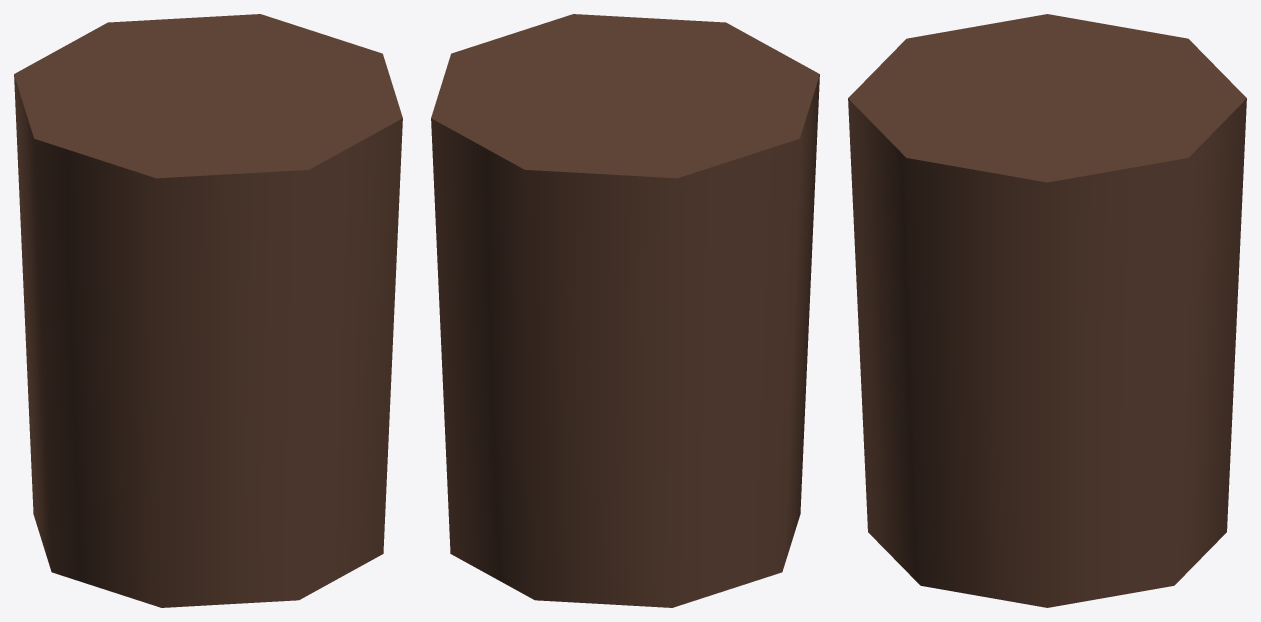
The model's file is neck.obj.
3 renders of one model, left to right at view 1: azimuth 30°, elevation 25°; view 2: azimuth 150°, elevation 25°; view 3: azimuth 270°, elevation 25°, orthographic.
Parts seen in each view (by area): view 1: neck; view 2: neck; view 3: neck.
Boxes of the visible parts, x1,y1,x2,y2 form: neck: (14, 14, 402, 607); neck: (431, 14, 819, 607); neck: (848, 14, 1246, 607).
Size of the model in its own units: 0.1057 by 0.1269 by 0.1057.
